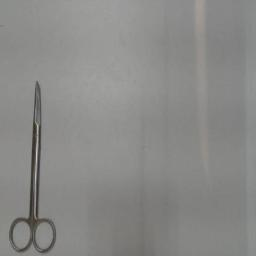Curved Mayo Scissors: (8, 78, 60, 254)
